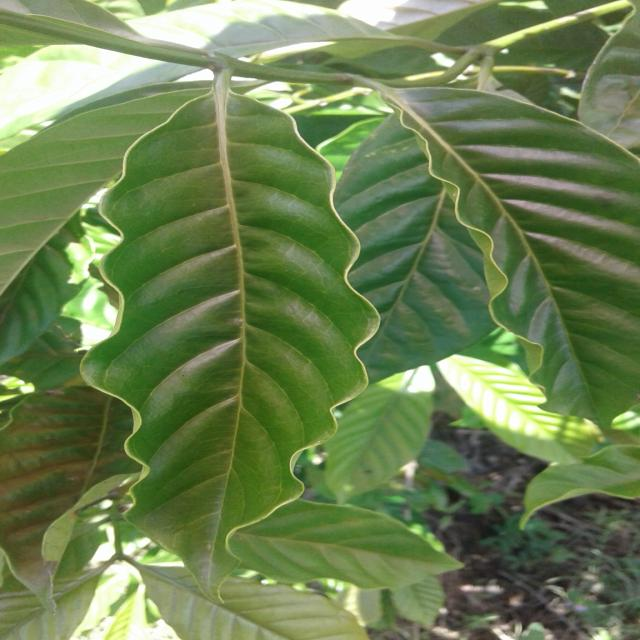Sanas: (79, 86, 381, 586)
